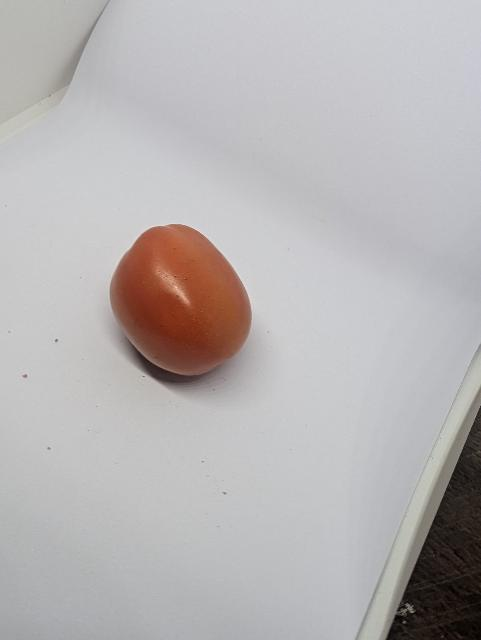red: (106, 223, 257, 377)
